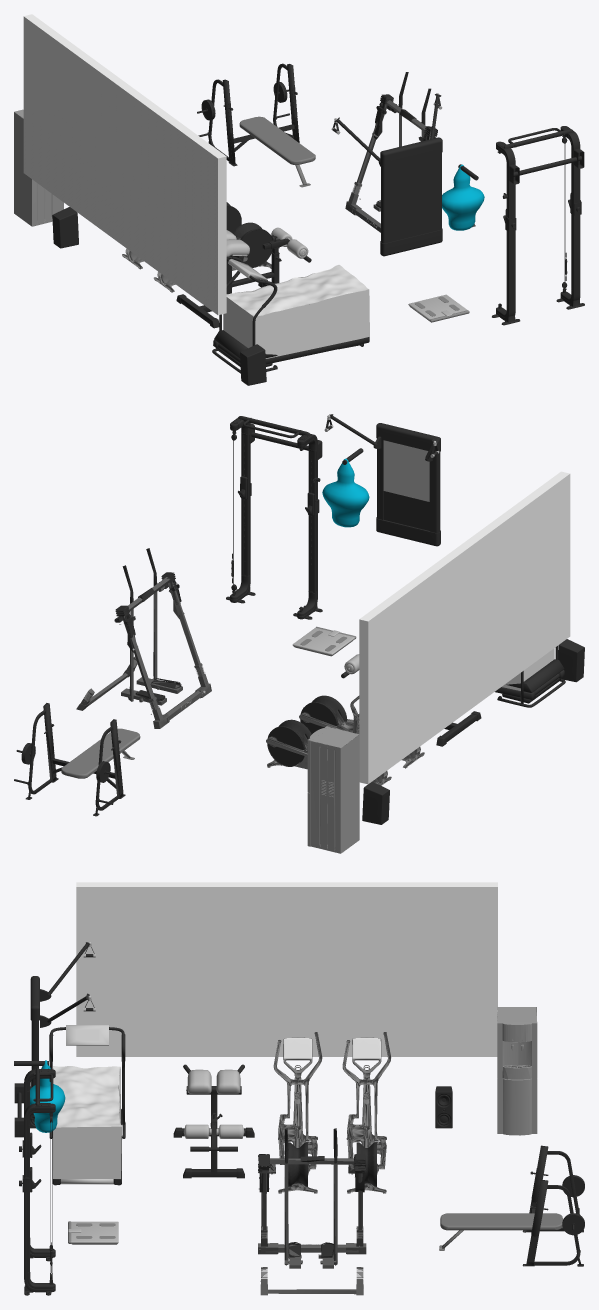
File: house-gym.glb
The picture shows the model from 3 angles, top to bottom: view 1: azimuth 30°, elevation 25°; view 2: azimuth 150°, elevation 25°; view 3: azimuth 270°, elevation 25°; orthographic projection. The views are drawn at different scales.
Parts seen in each view (by area): view 1: Box118.001, Plane.001, Box119.001, obj omnia 3.002, Box010.002, Object107.002, Text01.002, Object105.002, Simulator bench press to press N080819.002, Line101.001, Object104.001, obj Cross Personal Technogym.003 (+5 smaller); view 2: Box118.001, Box010.002, obj omnia 3.002, Text01.002, Box119.001, Object107.002, Object108.002, obj Cross Personal Technogym.004, Line101.001, Object105.002, obj Cross Personal Technogym.003, Simulator bench press to press N080819.002 (+5 smaller); view 3: Box118.001, Plane.001, Text01.002, Box010.002, obj Cross Personal Technogym.003, obj Cross Personal Technogym.004, obj omnia 3.002, Object107.002, Simulator bench press to press N080819.002, hyperextension_v01.002, Object104.001, Line101.001 (+5 smaller).
Part boxes in pixels (bbox=[...]): Box118.001: bbox=[23, 14, 226, 315]; Plane.001: bbox=[223, 265, 369, 358]; Box119.001: bbox=[380, 137, 442, 256]; obj omnia 3.002: bbox=[492, 126, 584, 325]; Box010.002: bbox=[14, 109, 63, 226]; Object107.002: bbox=[197, 63, 299, 166]; Text01.002: bbox=[345, 72, 475, 232]; Object105.002: bbox=[212, 256, 369, 373]; Simulator bench press to press N080819.002: bbox=[239, 116, 315, 187]; Line101.001: bbox=[442, 164, 484, 230]; Object104.001: bbox=[176, 235, 311, 328]; obj Cross Personal Technogym.003: bbox=[153, 222, 272, 292]; Box118.001: bbox=[359, 471, 570, 784]; Box010.002: bbox=[307, 726, 359, 853]; obj omnia 3.002: bbox=[226, 416, 322, 619]; Text01.002: bbox=[76, 548, 211, 728]; Box119.001: bbox=[376, 423, 440, 546]; Object107.002: bbox=[14, 703, 125, 816]; Object108.002: bbox=[383, 440, 429, 501]; obj Cross Personal Technogym.004: bbox=[266, 695, 391, 785]; Line101.001: bbox=[322, 458, 369, 527]; Object105.002: bbox=[495, 645, 565, 707]; obj Cross Personal Technogym.003: bbox=[299, 695, 424, 768]; Simulator bench press to press N080819.002: bbox=[61, 728, 140, 778]; Box118.001: bbox=[76, 882, 497, 1056]; Plane.001: bbox=[53, 1066, 121, 1178]; Text01.002: bbox=[258, 1128, 366, 1295]; Box010.002: bbox=[497, 1007, 537, 1135]; obj Cross Personal Technogym.003: bbox=[273, 1032, 322, 1193]; obj Cross Personal Technogym.004: bbox=[342, 1032, 391, 1193]; obj omnia 3.002: bbox=[14, 1068, 55, 1295]; Object107.002: bbox=[522, 1145, 584, 1266]; Simulator bench press to press N080819.002: bbox=[439, 1213, 562, 1250]; hyperextension_v01.002: bbox=[183, 1069, 244, 1138]; Object104.001: bbox=[173, 1064, 254, 1178]; Line101.001: bbox=[30, 1060, 65, 1132].
Bounding box in the file's own units: 2.26 × 1.39 × 3.
